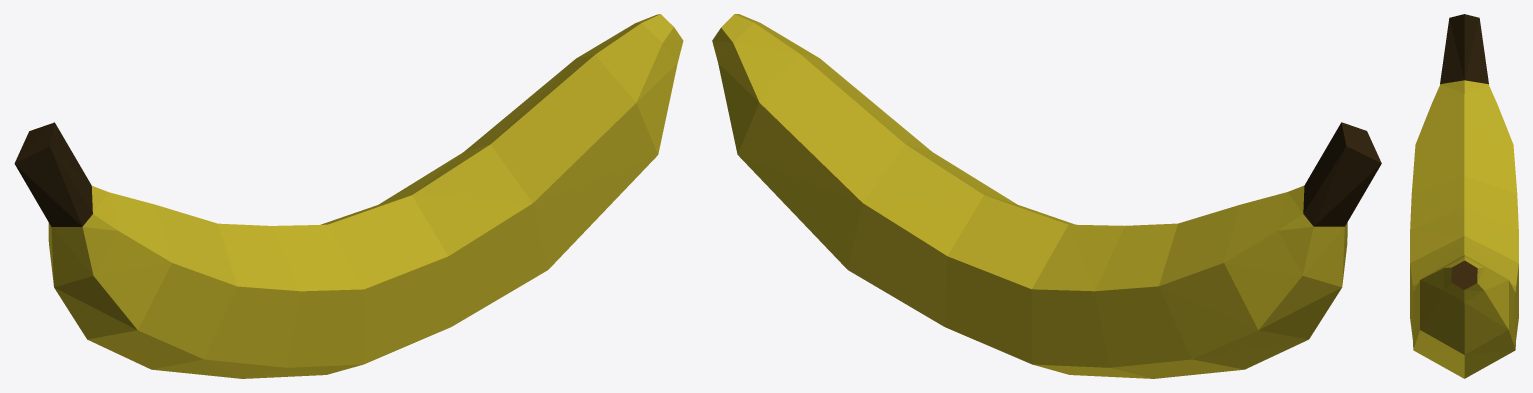
File: Mesh_Banana_tri.fbx
The picture shows the model from 3 angles, left to right: view 1: azimuth 30°, elevation 25°; view 2: azimuth 150°, elevation 25°; view 3: azimuth 270°, elevation 25°; orthographic projection. The views are drawn at different scales.
Parts seen in each view (by area): view 1: Mesh_Banana_tri; view 2: Mesh_Banana_tri; view 3: Mesh_Banana_tri.
Part boxes in pixels (x1=…): Mesh_Banana_tri: x1=14, y1=14, x2=683, y2=378; Mesh_Banana_tri: x1=712, y1=14, x2=1381, y2=378; Mesh_Banana_tri: x1=1410, y1=14, x2=1518, y2=378.
Size of the model in its own units: 10.51 by 4.82 by 2.03.
Materials: 1 (1 with a texture image).
